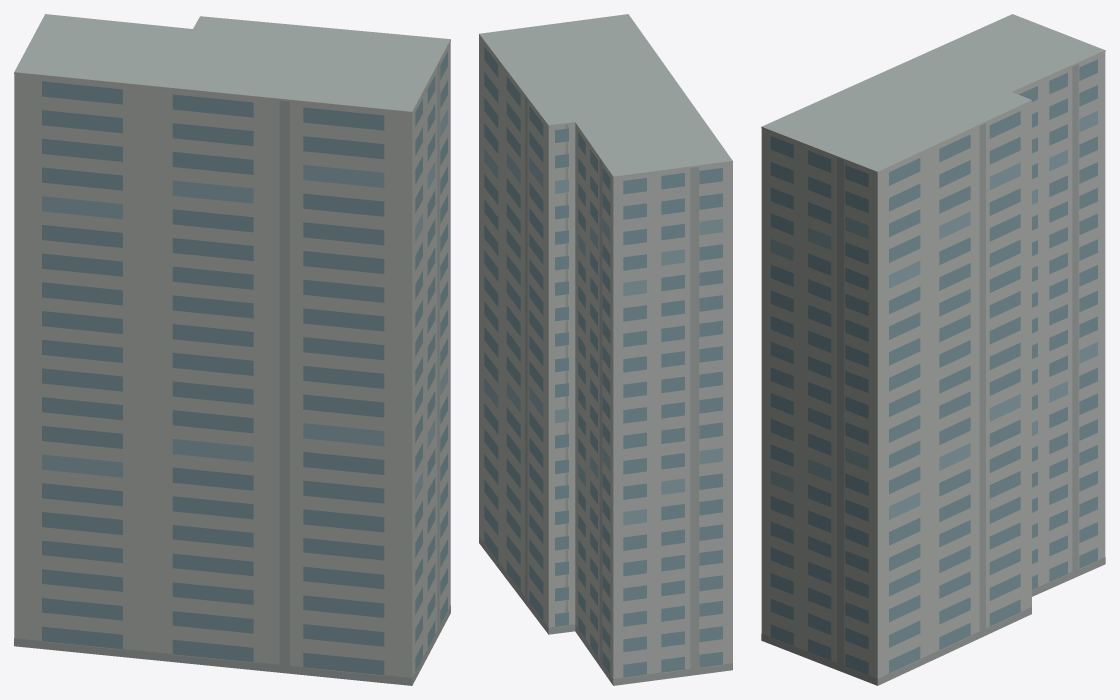
The model's file is residential-fa8a2ca5-eb92-4204-abe4-e455633be9b9.glb.
3 renders of one model, left to right at view 1: azimuth 30°, elevation 25°; view 2: azimuth 150°, elevation 25°; view 3: azimuth 270°, elevation 25°, orthographic. The views are drawn at different scales.
Visible parts, largest first — view 1: residential-fa8a2ca5-eb92-4204-abe4-e455633be9b9.tmp; view 2: residential-fa8a2ca5-eb92-4204-abe4-e455633be9b9.tmp; view 3: residential-fa8a2ca5-eb92-4204-abe4-e455633be9b9.tmp.
Part boxes in pixels (x1=…): residential-fa8a2ca5-eb92-4204-abe4-e455633be9b9.tmp: x1=14, y1=14, x2=450, y2=685; residential-fa8a2ca5-eb92-4204-abe4-e455633be9b9.tmp: x1=479, y1=14, x2=732, y2=685; residential-fa8a2ca5-eb92-4204-abe4-e455633be9b9.tmp: x1=761, y1=14, x2=1105, y2=685.
Size of the model in its own units: 47.44 by 72 by 43.67.
